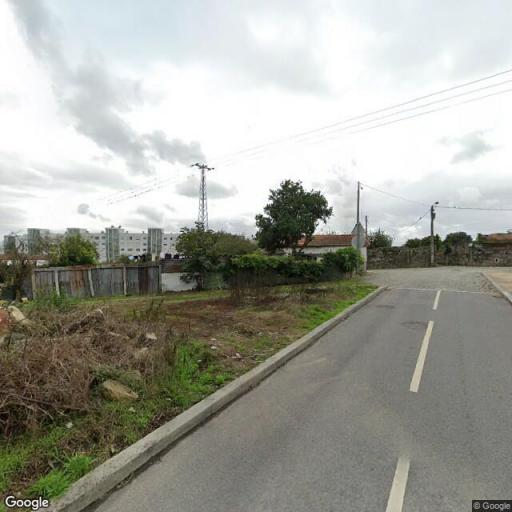ss_1: (194, 159, 212, 237)
